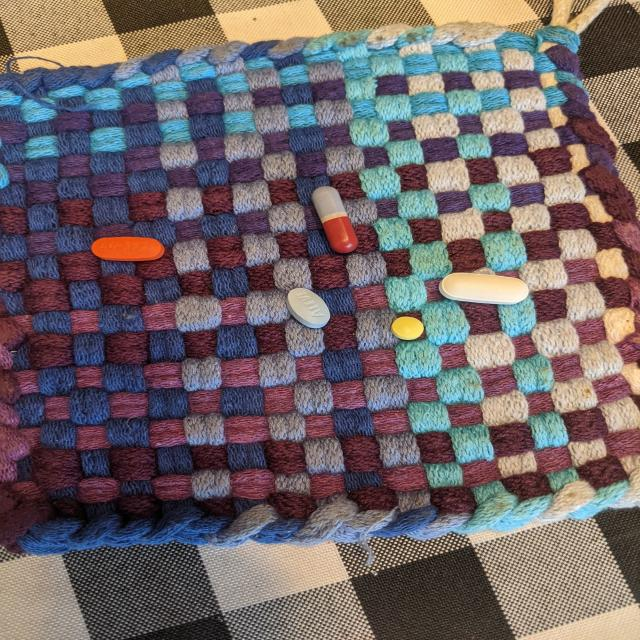non-organic waste: (310, 185, 359, 254), (438, 272, 531, 306), (90, 235, 166, 262), (285, 286, 331, 328), (389, 316, 425, 340)
